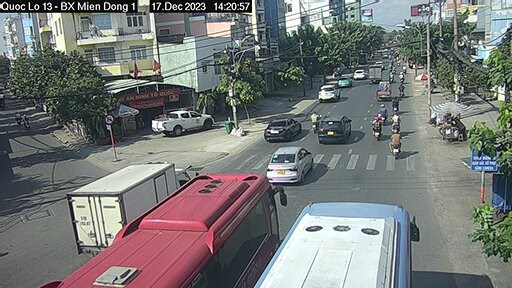bus: (289, 200, 421, 288), (168, 175, 269, 288)
car: (150, 109, 213, 136), (271, 146, 309, 183), (266, 116, 300, 141), (321, 114, 350, 143), (316, 84, 345, 105), (370, 78, 393, 102), (351, 66, 365, 81), (340, 74, 351, 89)
motorbike: (386, 131, 403, 156), (370, 115, 386, 140)
truck: (66, 161, 194, 252), (364, 65, 381, 84)
